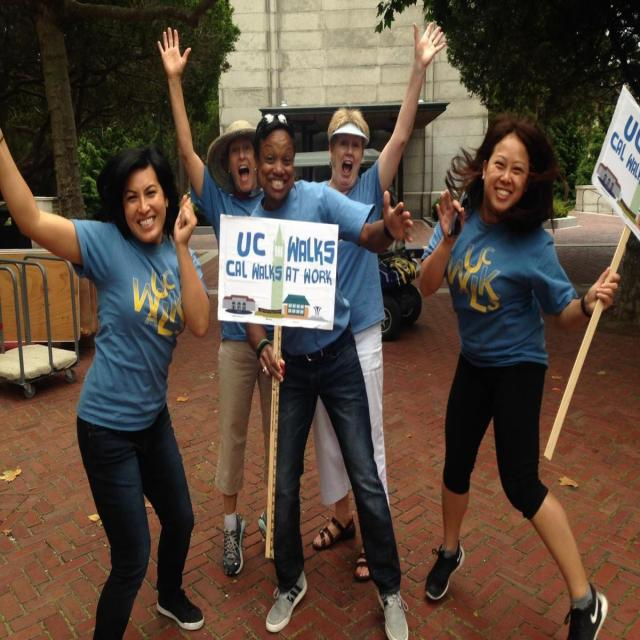body: (0, 96, 213, 639), (410, 110, 626, 640), (242, 108, 416, 640), (311, 20, 447, 586), (157, 26, 275, 579)
